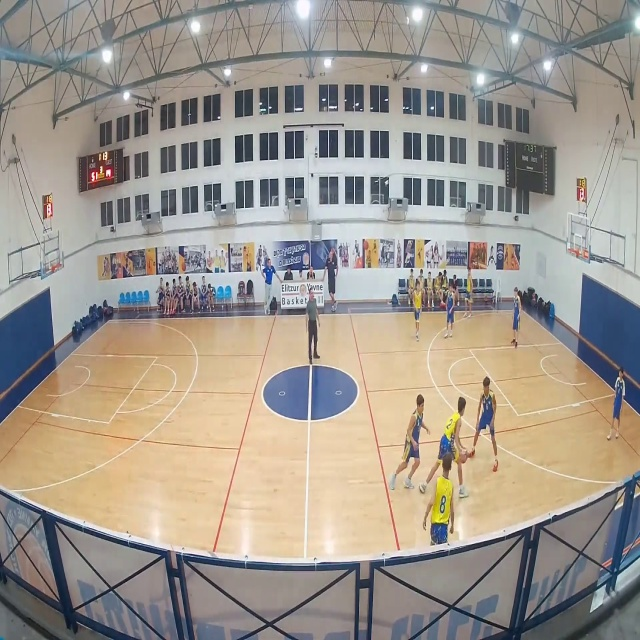Basketball: (457, 451, 467, 463)
